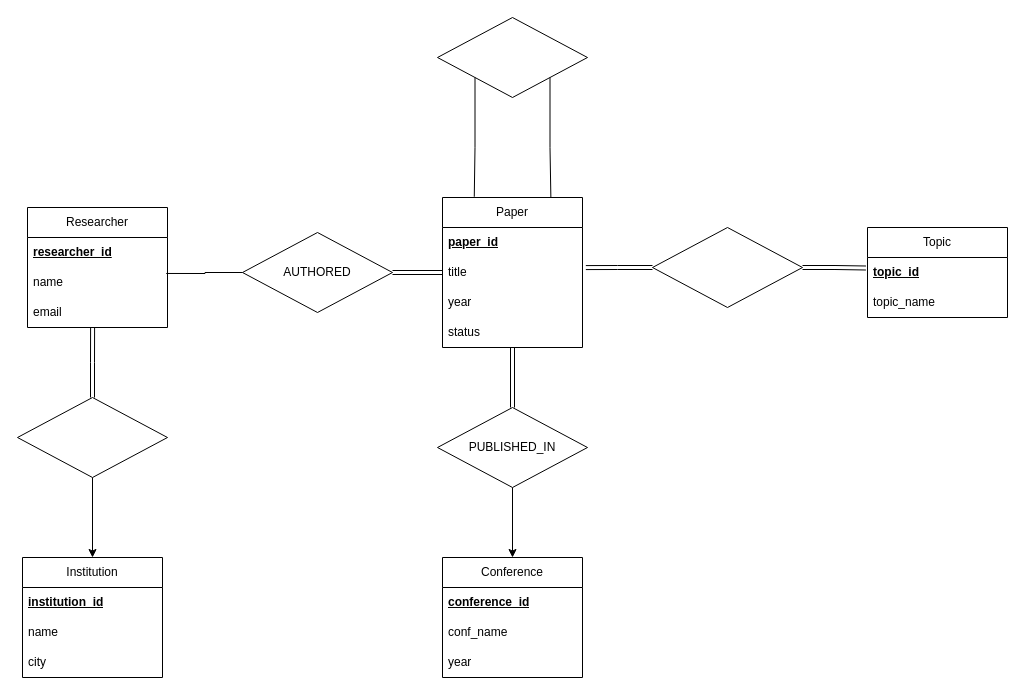
Some shapes in this 1025 by 695 pixel diagram are drawn without their labels. Each missing label, with the centre of its shape:
"AFFILIATED_WITH" goes at [92,437].
"CITES" goes at [512,57].
"COVERS" goes at [727,267].
